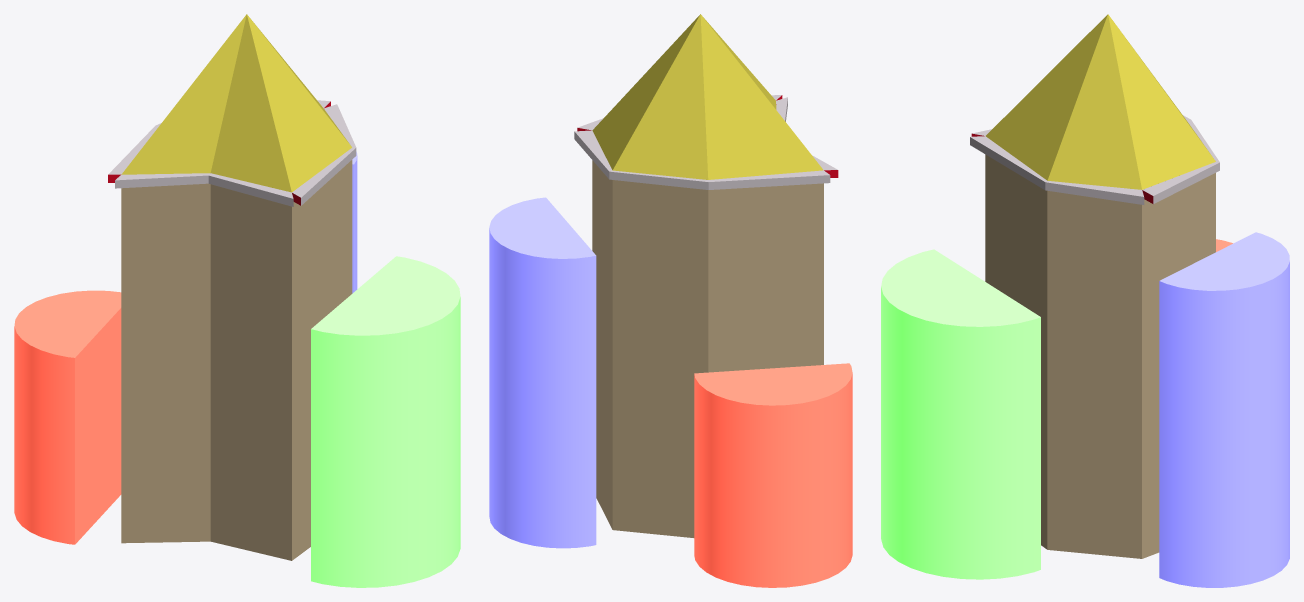
The model's file is towerCluster.glb.
3 views of the same model, side by side, from view 1: azimuth 30°, elevation 25°; view 2: azimuth 150°, elevation 25°; view 3: azimuth 270°, elevation 25° (orthographic). The views are drawn at different scales.
Parts seen in each view (by area): view 1: Tower, Cylinder-Green, Cylinder-Red, Cylinder-Blue; view 2: Tower, Cylinder-Blue, Cylinder-Red; view 3: Tower, Cylinder-Green, Cylinder-Blue.
Part boxes in pixels (x1=…): Tower: x1=108, y1=14, x2=356, y2=560; Cylinder-Green: x1=311, y1=256, x2=460, y2=587; Cylinder-Red: x1=14, y1=290, x2=121, y2=544; Cylinder-Blue: x1=352, y1=151, x2=357, y2=293; Tower: x1=574, y1=14, x2=838, y2=537; Cylinder-Blue: x1=489, y1=197, x2=596, y2=548; Cylinder-Red: x1=694, y1=363, x2=852, y2=587; Tower: x1=970, y1=14, x2=1219, y2=558; Cylinder-Green: x1=881, y1=249, x2=1040, y2=579; Cylinder-Blue: x1=1159, y1=232, x2=1289, y2=587.
Size of the model in its own units: 3.76 by 5.33 by 3.96.
